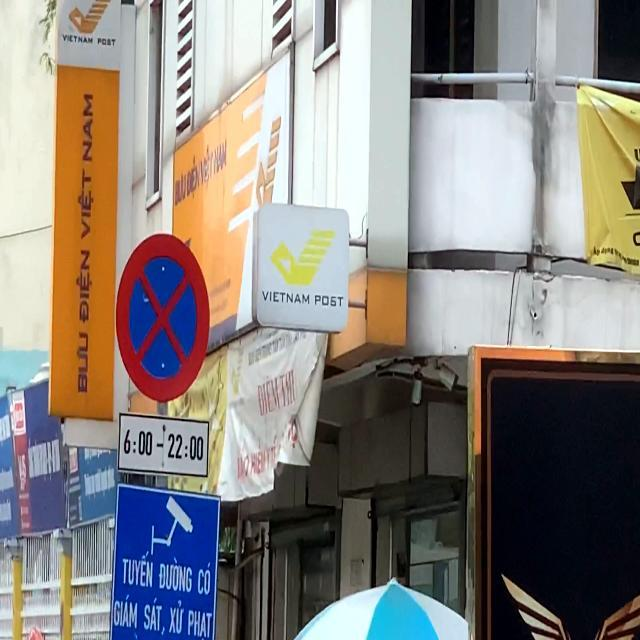P-130: (118, 232, 210, 400)
